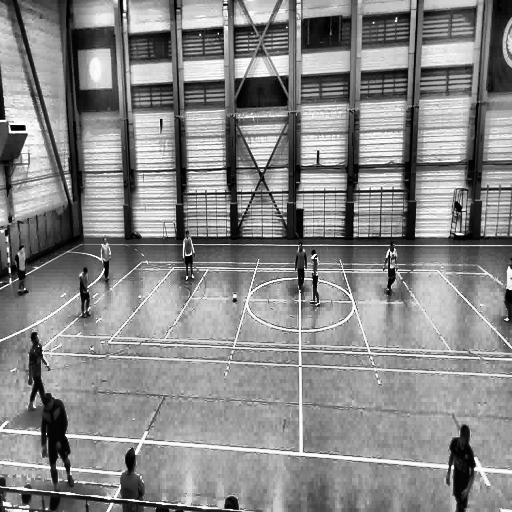ball: (233, 294, 237, 302)
player: (41, 394, 72, 493), (446, 424, 476, 510), (27, 333, 51, 411), (383, 240, 397, 296), (182, 231, 196, 281), (79, 266, 92, 319), (16, 244, 29, 294), (309, 248, 320, 306), (295, 243, 307, 294), (99, 236, 112, 282)
